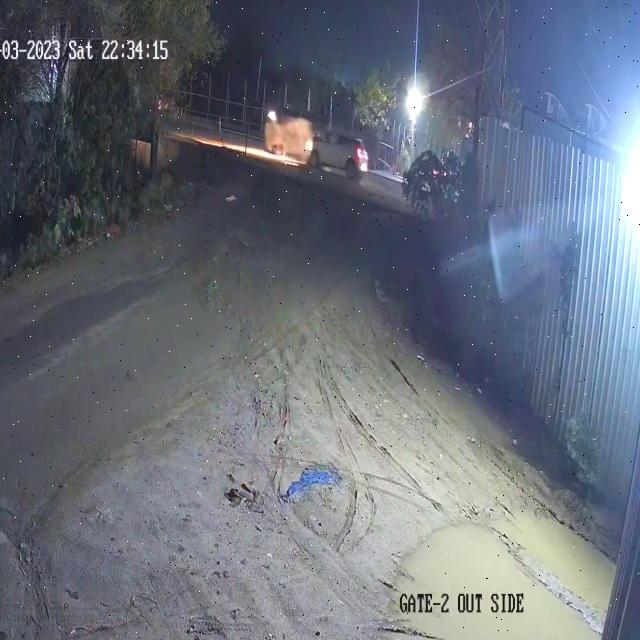accident: (258, 100, 372, 183)
